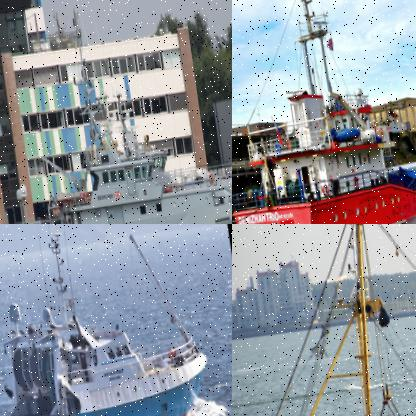Fishing Boat: (0, 224, 216, 415), (232, 224, 415, 415)
Merchant Ship: (232, 0, 415, 223)
Patrol Boat: (0, 0, 231, 223)
